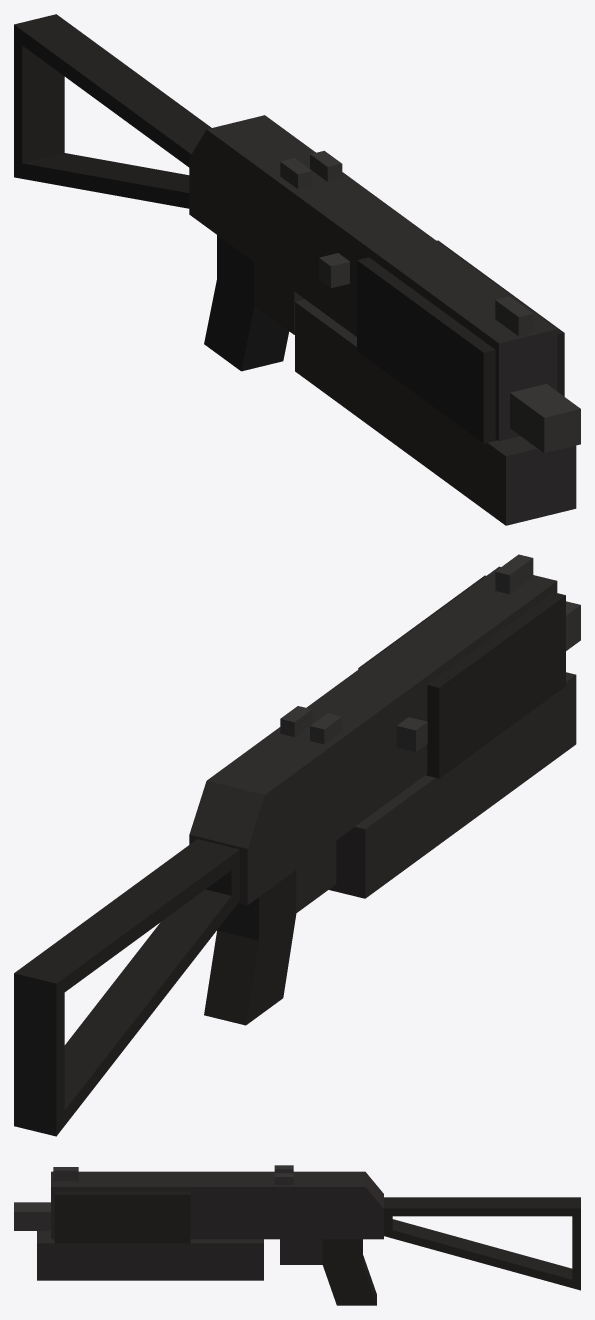
Rendered from SMG19.FBX.
3 renders of one model, top to bottom at view 1: azimuth 30°, elevation 25°; view 2: azimuth 150°, elevation 25°; view 3: azimuth 270°, elevation 25°, orthographic. The views are drawn at different scales.
Parts seen in each view (by area): view 1: SMG19, SMG19Mag, SMG19Stock; view 2: SMG19, SMG19Stock, SMG19Mag; view 3: SMG19, SMG19Mag, SMG19Stock.
Part boxes in pixels (x1,y1,x2,y2): SMG19: (189, 115, 580, 453); SMG19Mag: (295, 299, 576, 525); SMG19Stock: (14, 14, 211, 208); SMG19: (189, 554, 580, 1025); SMG19Stock: (14, 839, 239, 1136); SMG19Mag: (329, 672, 576, 898); SMG19: (14, 1165, 383, 1305); SMG19Mag: (37, 1231, 263, 1280); SMG19Stock: (384, 1197, 580, 1290).
Size of the model in its own units: 16.46 by 170 by 43.4.
